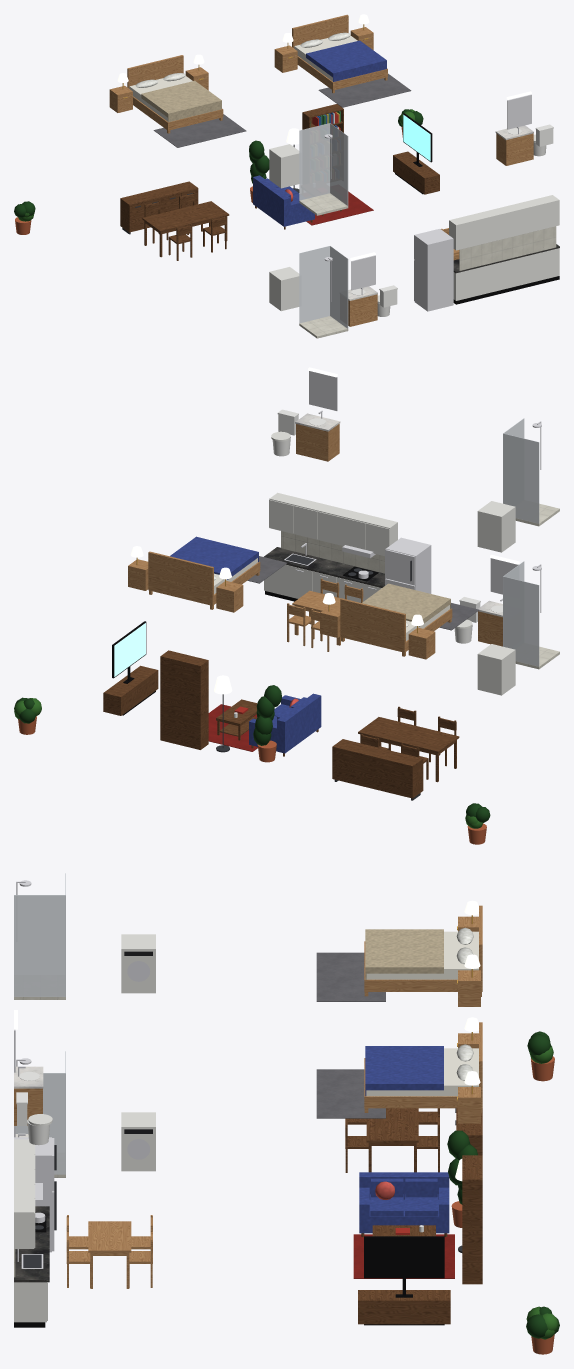
The model's file is i_swedish_red_cottage.gltf.
The picture shows the model from 3 angles, top to bottom: view 1: azimuth 30°, elevation 25°; view 2: azimuth 150°, elevation 25°; view 3: azimuth 270°, elevation 25°; orthographic projection. The views are drawn at different scales.
Parts seen in each view (by area): view 1: I_swedish_red_cottage; view 2: I_swedish_red_cottage; view 3: I_swedish_red_cottage.
Part boxes in pixels (box(x1,y1,x2,y2)): I_swedish_red_cottage: box(14, 14, 559, 338); I_swedish_red_cottage: box(14, 367, 559, 844); I_swedish_red_cottage: box(14, 873, 559, 1354).
Size of the model in its own units: 11.79 by 5.45 by 9.46.
32 materials, 12 textured.
